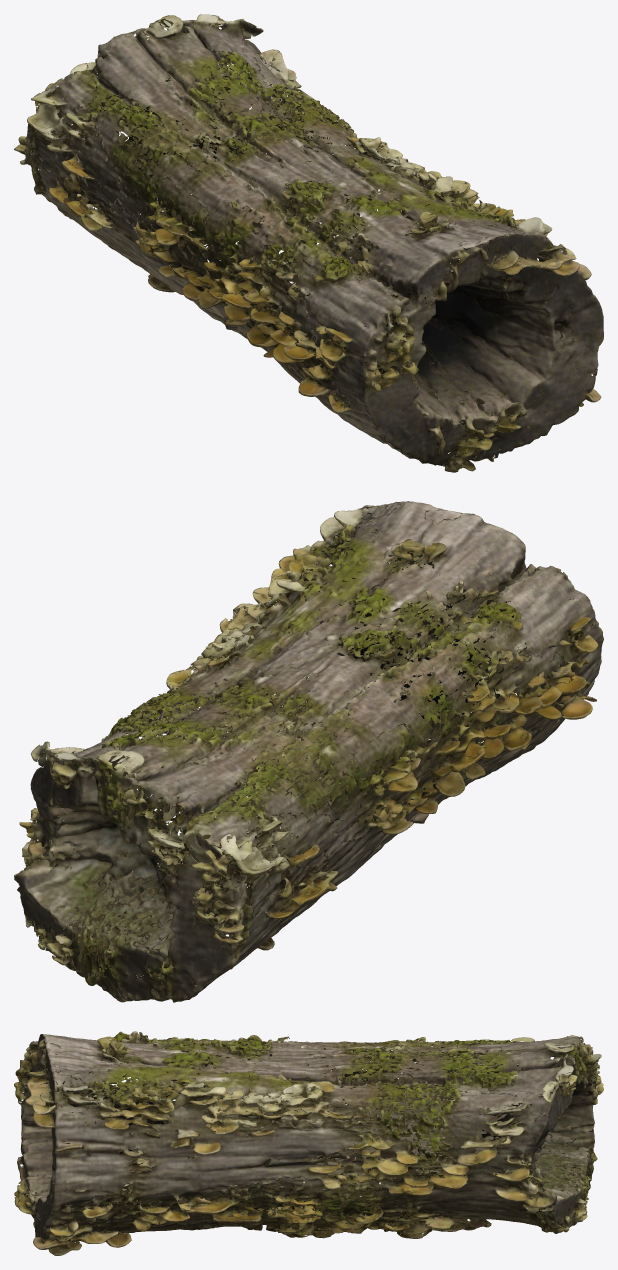
File: right_side_barrier_log.raw.glb
3 renders of one model, top to bottom at view 1: azimuth 30°, elevation 25°; view 2: azimuth 150°, elevation 25°; view 3: azimuth 270°, elevation 25°, orthographic. The views are drawn at different scales.
Parts seen in each view (by area): view 1: world; view 2: world; view 3: world.
Part boxes in pixels (x1=…): world: x1=14, y1=14, x2=603, y2=472; world: x1=14, y1=501, x2=603, y2=1002; world: x1=14, y1=1031, x2=603, y2=1255.
Size of the model in its own units: 0.4811 by 0.3505 by 0.9968.
Materials: 1 (1 with a texture image).
